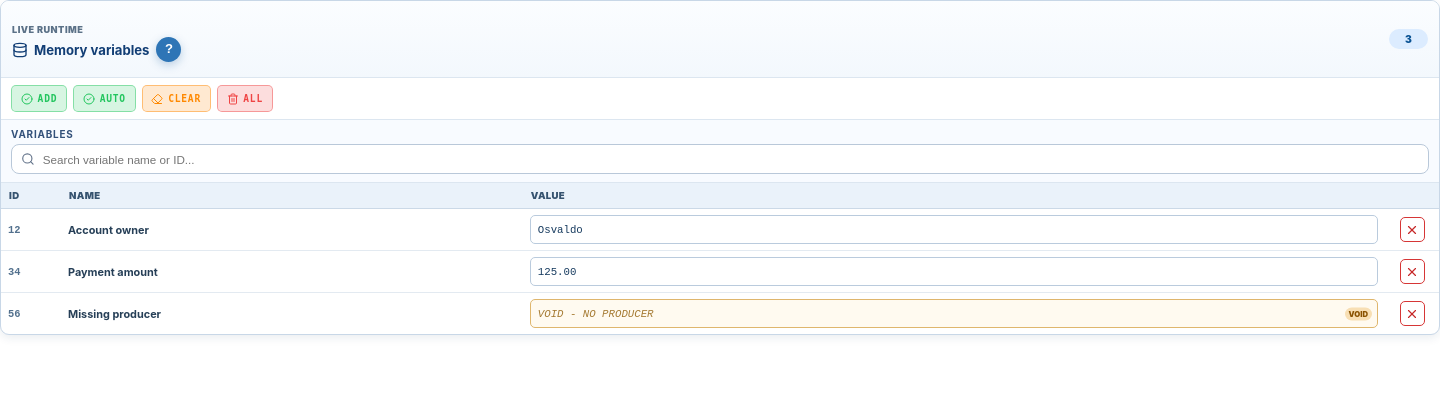
Scenario: filters runtime memory by variable name or ID but never by value
The width and height of the screenshot is (1440, 416).
In the search field named "Search memory variables": coordinates (730, 159) top-left (41, 152), bottom-right (1419, 166), type "Payment amount"
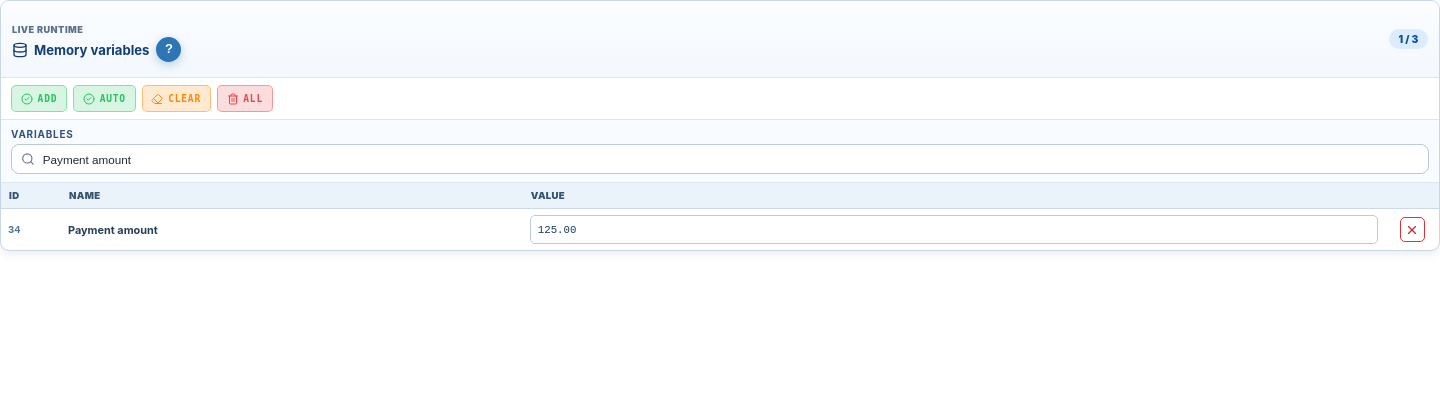
Expected: the text "Payment amount" is shown, top-left (68, 222), bottom-right (158, 236)
Expected: the text "Account owner" is gone
Expected: the text "1 / 3" is shown, top-left (1389, 29), bottom-right (1428, 49)
Replace the text in the search field named "Search memory variables" with "56": coordinates (730, 159) top-left (41, 152), bottom-right (1419, 166)
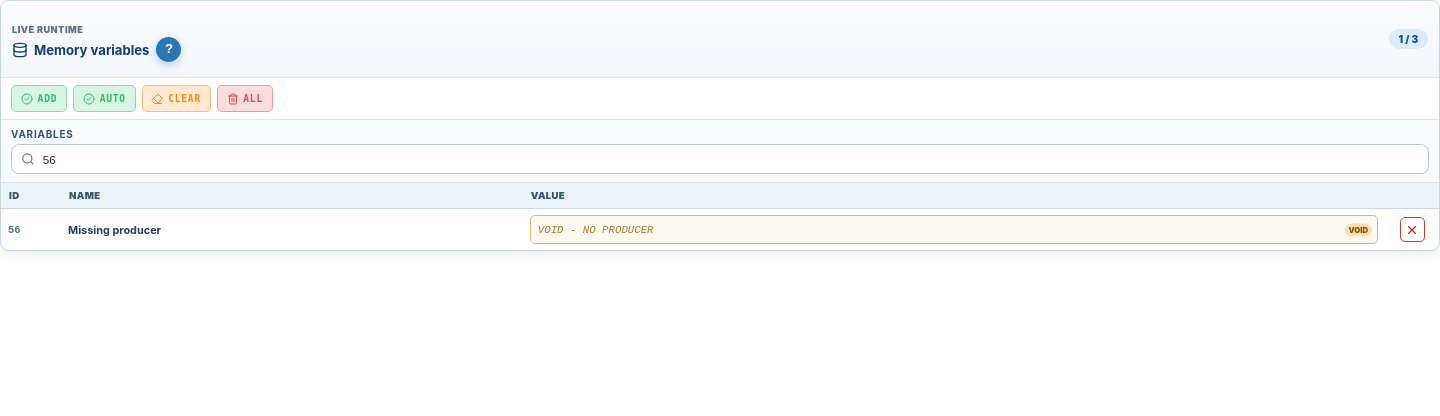
Expected: the text "Missing producer" is shown, top-left (68, 222), bottom-right (161, 236)
Expected: the text "Payment amount" is gone
Replace the text in the search field named "Search memory variables" with "125.00": coordinates (730, 159) top-left (41, 152), bottom-right (1419, 166)
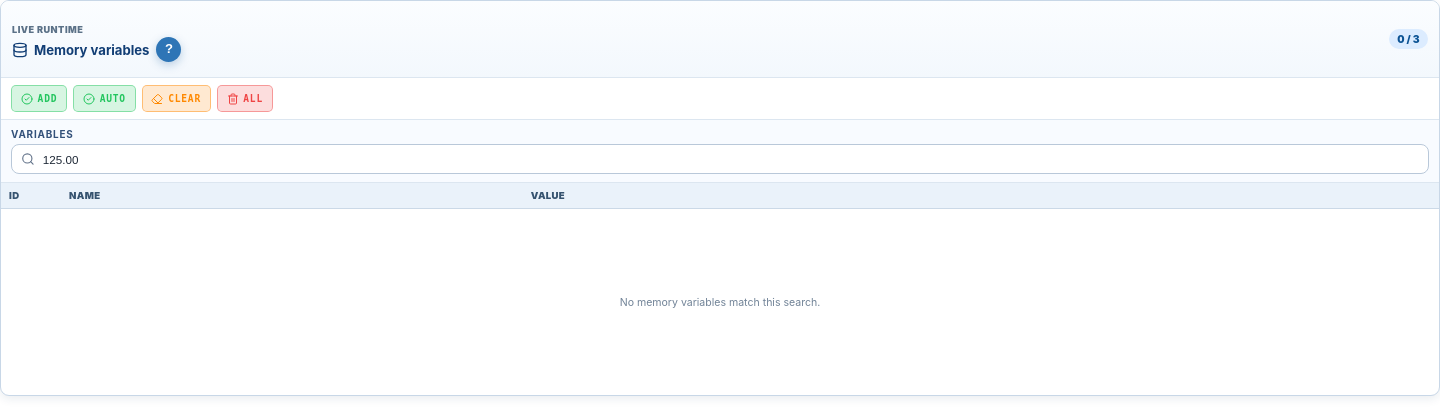
Expected: the text "Payment amount" is not shown
Expected: the message reads "No memory variables match this search.", top-left (620, 296), bottom-right (820, 308)
